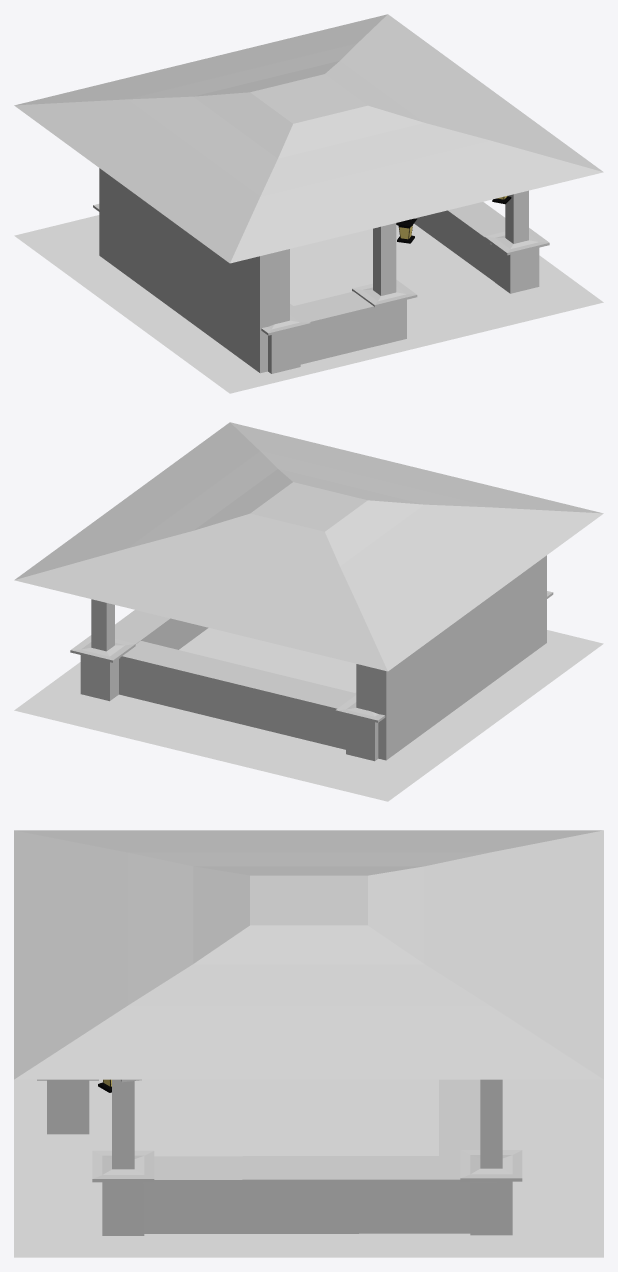
Rendered from Gazebo.fbx.
3 views of the same model, one above another, from view 1: azimuth 30°, elevation 25°; view 2: azimuth 150°, elevation 25°; view 3: azimuth 270°, elevation 25° (orthographic). The views are drawn at different scales.
Visible parts, largest first — view 1: Roof, Floor, BackWall, Counter, Counter.002, FloorPillar.002, FloorPillar, FloorPillar.001; view 2: Roof, Floor, BackWall, Counter.003, FloorPillar.003, FloorPillar.004, Counter.002; view 3: Roof, Floor, Counter.002, FloorPillar.002, FloorPillar.003, Counter.003, FloorPillar.
Boxes of the visible parts, x1=… form: Roof: x1=14, y1=14, x2=603, y2=263; Floor: x1=14, y1=215, x2=603, y2=393; BackWall: x1=99, y1=168, x2=275, y2=373; Counter: x1=290, y1=291, x2=381, y2=364; Counter.002: x1=414, y1=202, x2=505, y2=281; FloorPillar.002: x1=484, y1=190, x2=549, y2=293; FloorPillar: x1=352, y1=223, x2=417, y2=345; FloorPillar.001: x1=261, y1=249, x2=310, y2=373; Roof: x1=14, y1=422, x2=603, y2=671; Floor: x1=14, y1=628, x2=603, y2=801; BackWall: x1=371, y1=555, x2=546, y2=760; Counter.003: x1=119, y1=641, x2=356, y2=749; FloorPillar.003: x1=70, y1=599, x2=135, y2=701; FloorPillar.004: x1=335, y1=664, x2=385, y2=761; Counter.002: x1=115, y1=610, x2=208, y2=658; Roof: x1=14, y1=830, x2=603, y2=1079; Floor: x1=14, y1=1079, x2=603, y2=1257; Counter.002: x1=142, y1=1156, x2=496, y2=1233; FloorPillar.002: x1=92, y1=1079, x2=154, y2=1235; FloorPillar.003: x1=460, y1=1079, x2=522, y2=1235; Counter.003: x1=439, y1=1079, x2=480, y2=1155; FloorPillar: x1=37, y1=1079, x2=98, y2=1134.
Bounding box in the file's own units: 263 × 116 × 263.
